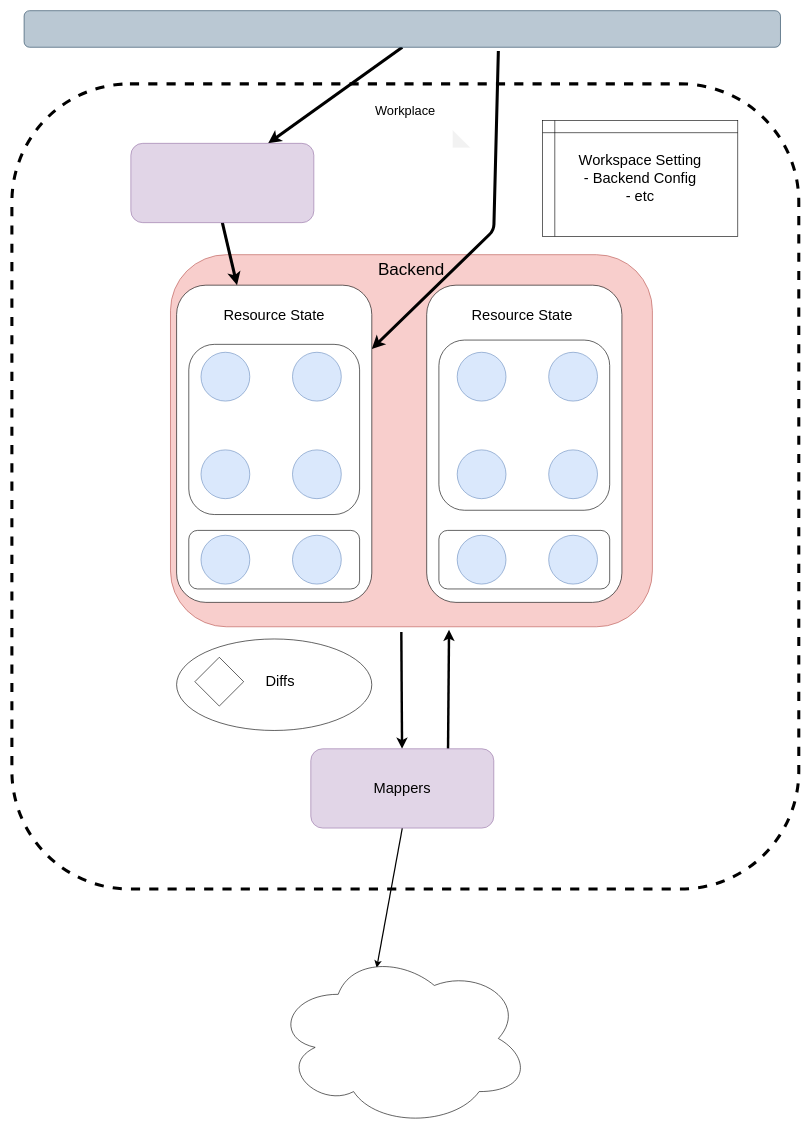
The diagram is 811 pixels wide and 1138 high, and some of its shapes have lost their labels. Here are the shapes that lost their labels. From the top down, the centre of each, then its label:
the point at 401,28: CLI/Commands
the point at 222,183: User Defined Commands
the point at 411,182: File System
